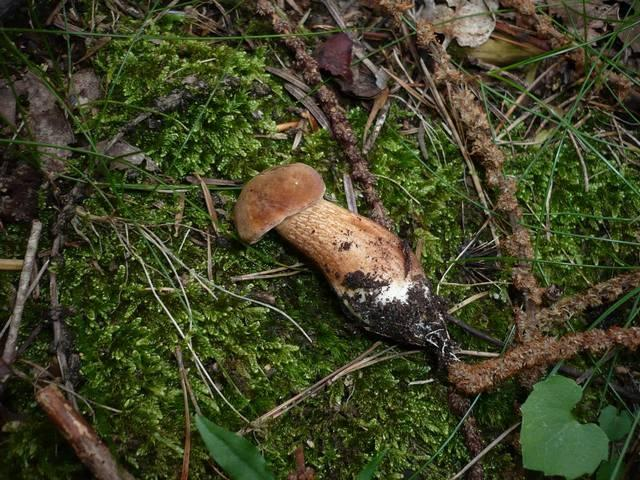Non-edible Mushroom: (231, 161, 461, 359)
